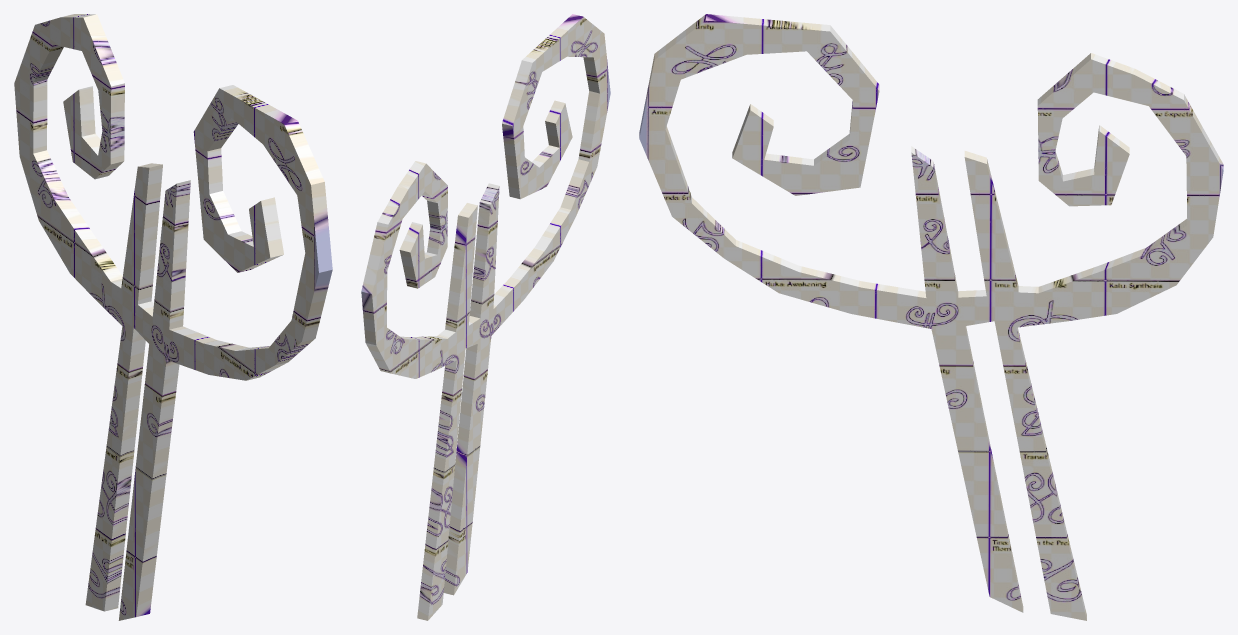
Rendered from ggg.glb.
3 renders of one model, left to right at view 1: azimuth 30°, elevation 25°; view 2: azimuth 150°, elevation 25°; view 3: azimuth 270°, elevation 25°, orthographic. The views are drawn at different scales.
Parts seen in each view (by area): view 1: Picsart_22-01-21_15-37-57-171.001; view 2: Picsart_22-01-21_15-37-57-171.001; view 3: Picsart_22-01-21_15-37-57-171.001.
Part boxes in pixels (left/top/right/bottom): Picsart_22-01-21_15-37-57-171.001: left=14, top=14, right=332, bottom=620; Picsart_22-01-21_15-37-57-171.001: left=361, top=14, right=610, bottom=620; Picsart_22-01-21_15-37-57-171.001: left=639, top=14, right=1223, bottom=620.
Size of the model in its own units: 0.0442 by 1.92 by 1.69.
1 material, 1 textured.
